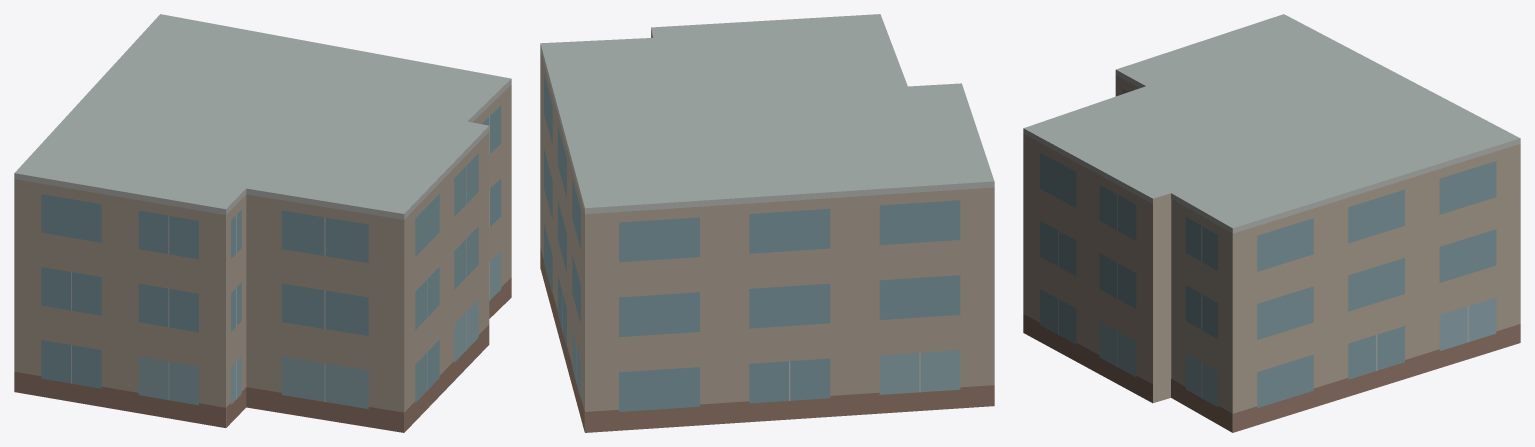
The model's file is survey-upis-32814711.glb.
The picture shows the model from 3 angles, left to right: view 1: azimuth 30°, elevation 25°; view 2: azimuth 150°, elevation 25°; view 3: azimuth 270°, elevation 25°; orthographic projection. The views are drawn at different scales.
Parts seen in each view (by area): view 1: survey-upis-32814711.tmp; view 2: survey-upis-32814711.tmp; view 3: survey-upis-32814711.tmp.
Boxes of the visible parts, <box> form: survey-upis-32814711.tmp: <box>14,14,511,432</box>; survey-upis-32814711.tmp: <box>540,14,994,432</box>; survey-upis-32814711.tmp: <box>1023,14,1520,432</box>.
Size of the model in its own units: 20.57 by 9.15 by 20.16.
